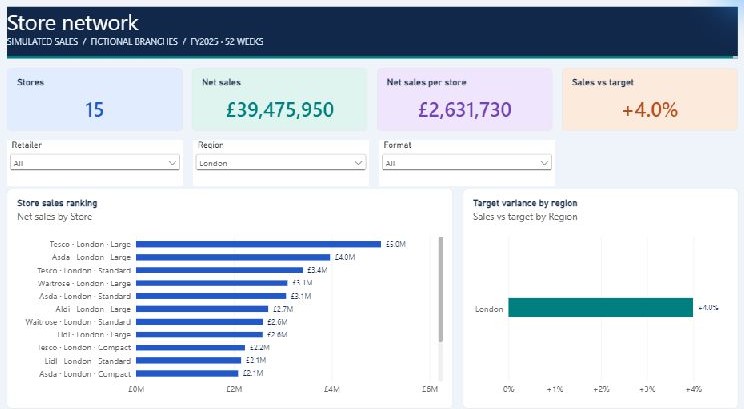

The dashboard page shown, as its layout file describes it:
{"tool":"tableau","page":{"name":"Store network","canvas":[1150,730],"ordinal":1},"visuals":[{"type":"text","box":[16.1,13.1,1117.8,48.2]},{"type":"text","box":[16.1,61.3,1117.8,31.4]},{"type":"text","box":[16.1,92.7,1117.8,5.8]},{"type":"worksheet","title":"Stores","mark":"Text","box":[16.1,113.2,268.2,108]},{"type":"worksheet","title":"Store network sales","mark":"Text","box":[299.3,113.2,268.2,108]},{"type":"worksheet","title":"Net sales per store","mark":"Text","box":[582.5,113.2,268.2,108]},{"type":"worksheet","title":"Store vs target","mark":"Text","box":[865.7,113.2,268.2,108]},{"type":"text","box":[16.1,233.6,1117.8,38]},{"type":"worksheet","title":"Net sales by store","mark":"Bar","rows":["store"],"cols":["NetSales"],"box":[16.1,284.7,670.5,425.6]},{"type":"worksheet","title":"Retailer sales","mark":"Bar","rows":["retailer"],"cols":["NetSales"],"box":[703.8,284.7,430.1,201.5]},{"type":"worksheet","title":"Target variance by region","mark":"Bar","rows":["region"],"cols":["VsTarget"],"box":[703.8,498.6,430.1,211.7]}]}

Visuals, with their boxes on the page's 1150x730 design canvas (x1, y1, x2, y2). These are canvas units, not pixel positions in the 744x409 screenshot, which may show the page scaled, cropped or inside an application window:
text: 16 13 1134 61
text: 16 61 1134 93
text: 16 93 1134 98
"Stores" worksheet (Text marks): 16 113 284 221
"Store network sales" worksheet (Text marks): 299 113 568 221
"Net sales per store" worksheet (Text marks): 582 113 851 221
"Store vs target" worksheet (Text marks): 866 113 1134 221
text: 16 234 1134 272
"Net sales by store" worksheet (Bar marks): 16 285 687 710
"Retailer sales" worksheet (Bar marks): 704 285 1134 486
"Target variance by region" worksheet (Bar marks): 704 499 1134 710
